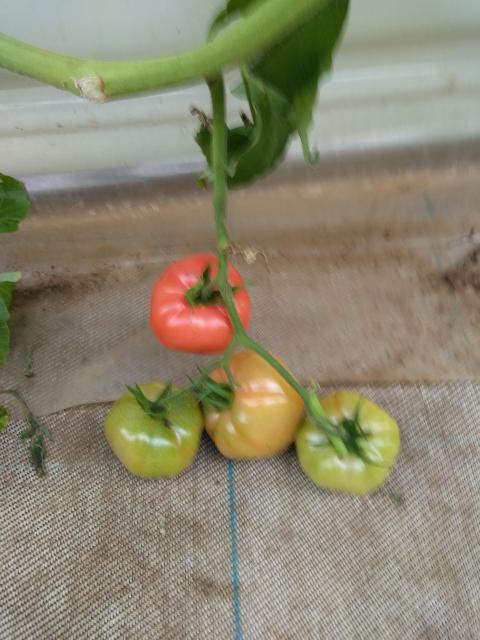b_fully_ripened: (149, 254, 252, 357)
b_green: (294, 392, 399, 494), (104, 380, 203, 479)
b_half_ripened: (201, 349, 309, 460)
